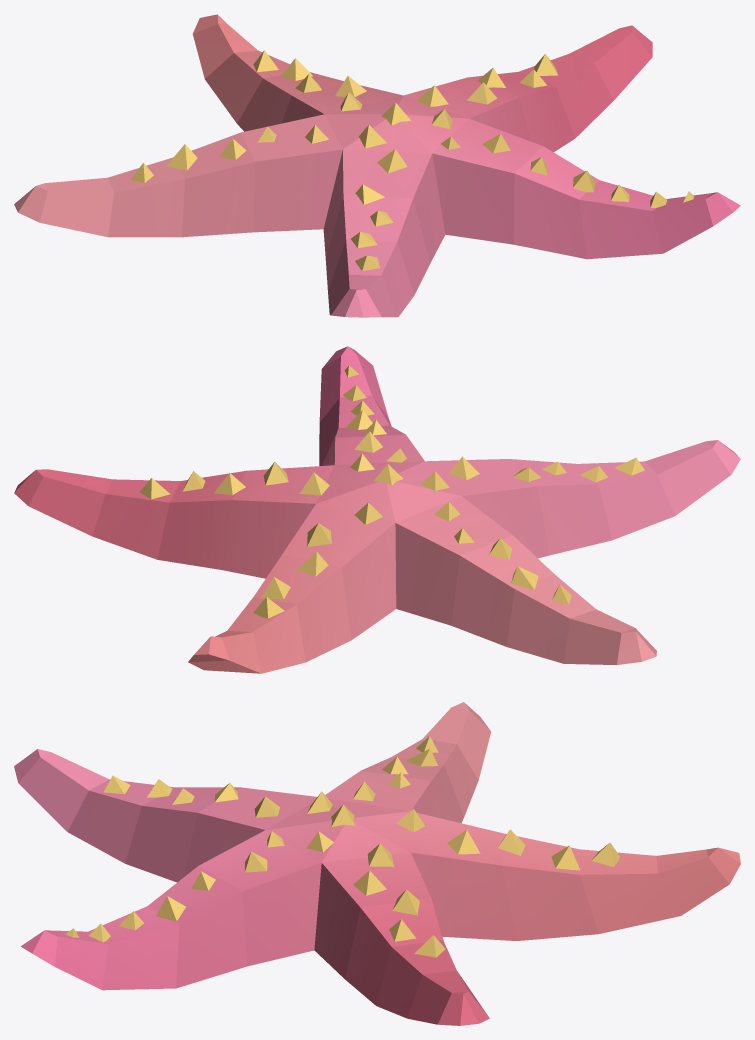
The model's file is Coral_006.glb.
3 views of the same model, one above another, from view 1: azimuth 30°, elevation 25°; view 2: azimuth 150°, elevation 25°; view 3: azimuth 270°, elevation 25° (orthographic). The views are drawn at different scales.
Parts seen in each view (by area): view 1: Coral_006; view 2: Coral_006; view 3: Coral_006.
Part boxes in pixels (box(x1,y1,x2,y2)): Coral_006: box(14, 14, 740, 317); Coral_006: box(14, 346, 740, 673); Coral_006: box(14, 702, 740, 1025).
Bounding box in the file's own units: 0.6438 × 0.1043 × 0.603.
Materials: 1 (1 with a texture image).
